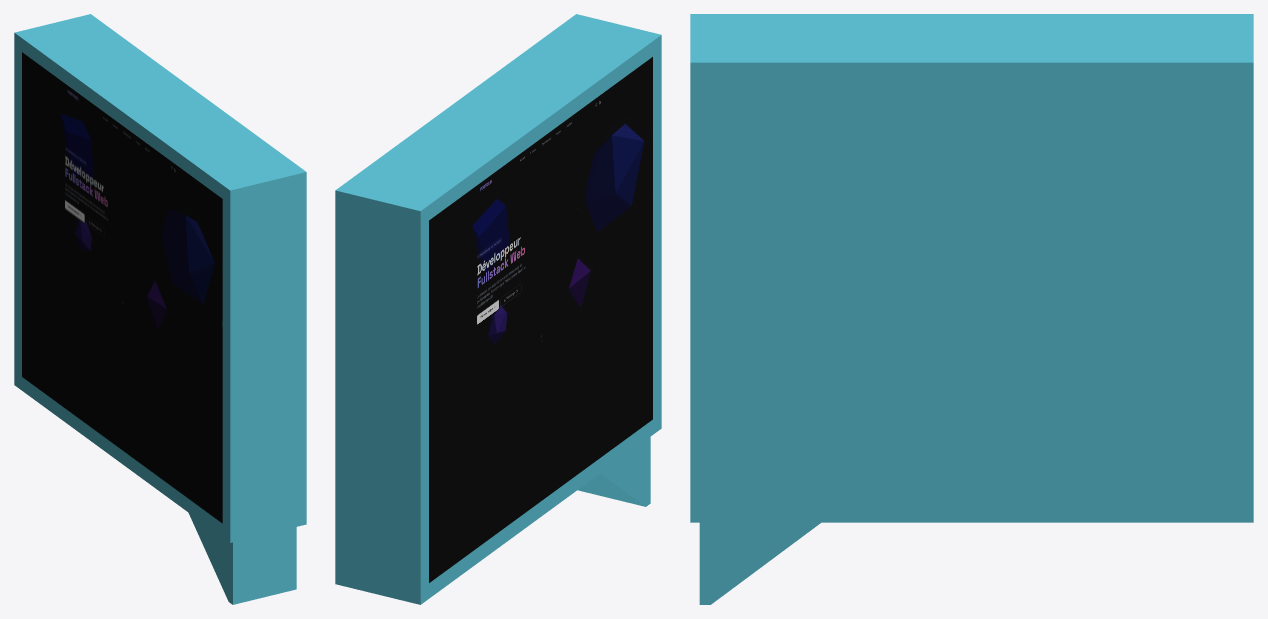
The model's file is TJS_BasicShape.glb.
3 renders of one model, left to right at view 1: azimuth 30°, elevation 25°; view 2: azimuth 150°, elevation 25°; view 3: azimuth 270°, elevation 25°, orthographic. The views are drawn at different scales.
Parts seen in each view (by area): view 1: Cube; view 2: Cube; view 3: Cube.
Boxes of the visible parts, x1=… form: Cube: x1=14, y1=14, x2=306, y2=604; Cube: x1=335, y1=14, x2=661, y2=604; Cube: x1=690, y1=14, x2=1253, y2=604.
Bounding box in the file's own units: 2 × 10.47 × 9.79.
Materials: 1 (1 with a texture image).
